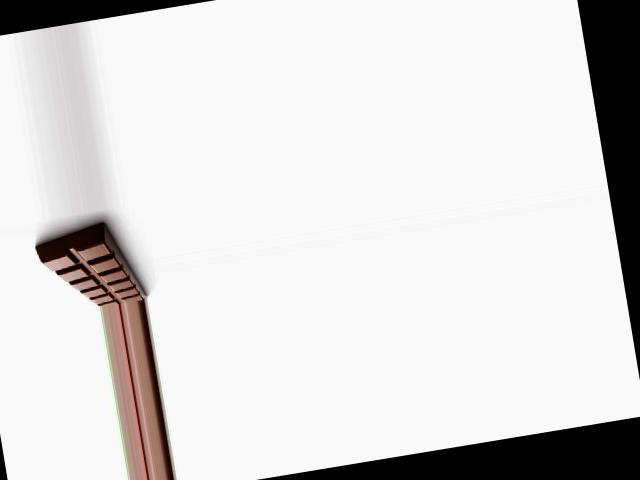chocolate: (32, 213, 153, 315)
